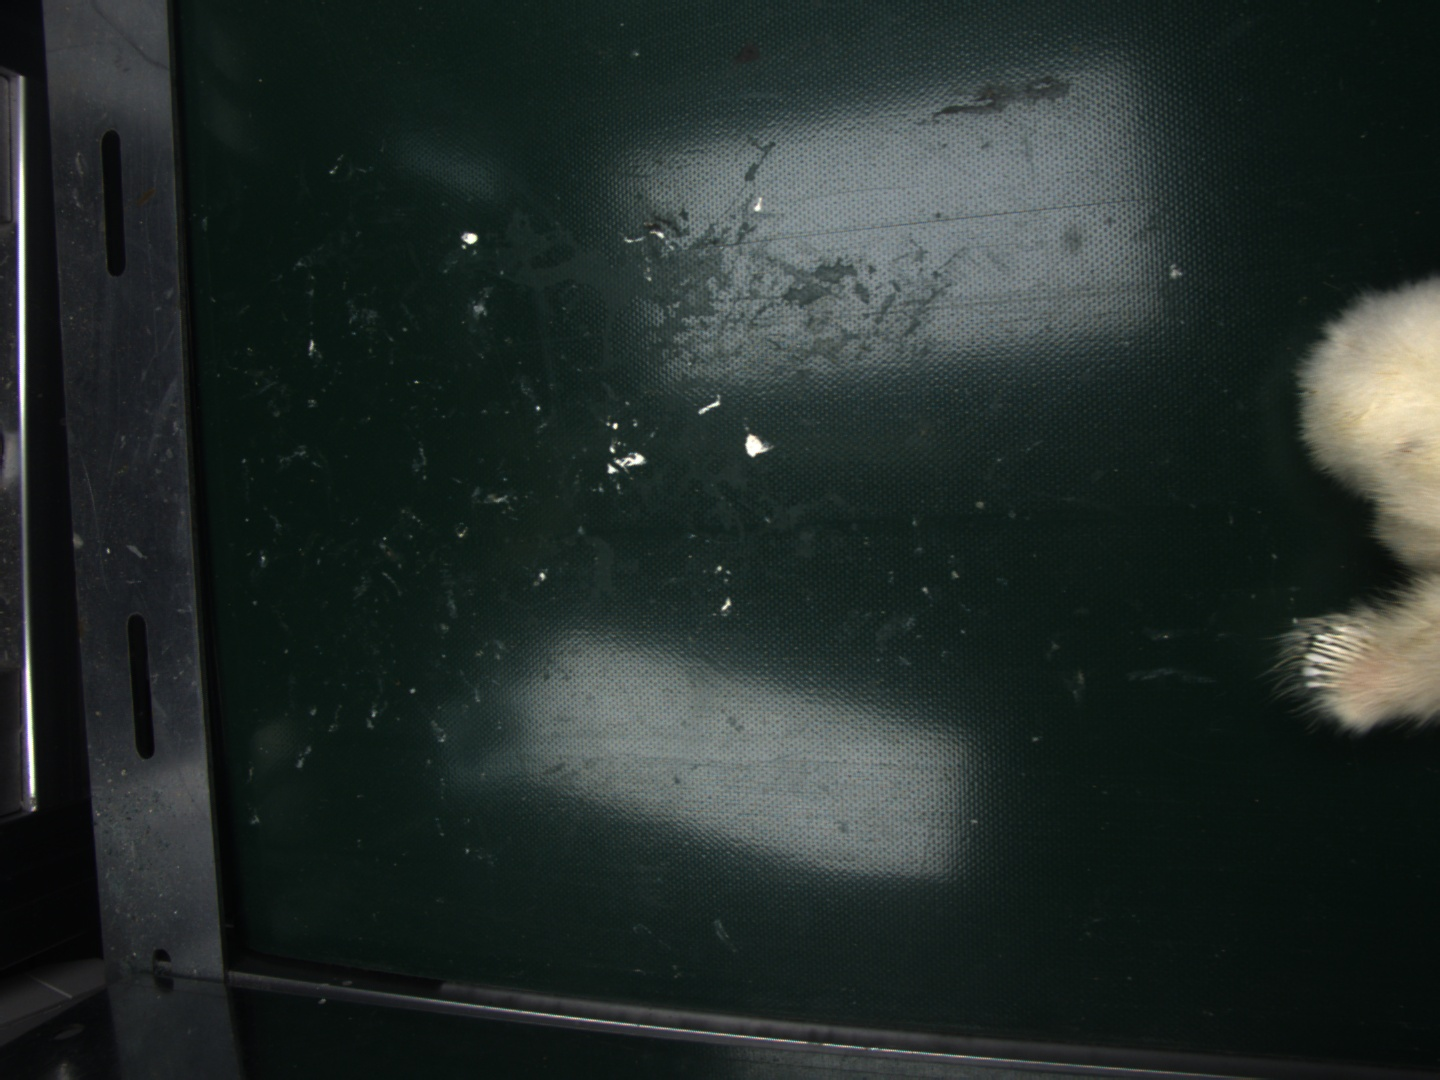male: (1301, 623, 1374, 702)
